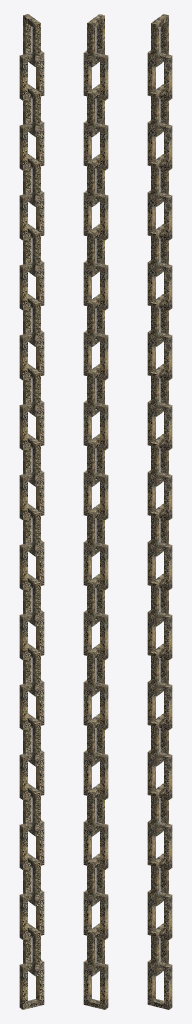
File: Bigchain.glb
3 views of the same model, side by side, from view 1: azimuth 30°, elevation 25°; view 2: azimuth 150°, elevation 25°; view 3: azimuth 330°, elevation 25° (orthographic).
Visible parts, largest first — view 1: Cube_001; view 2: Cube_001; view 3: Cube_001.
Boxes of the visible parts, box(x1,y1,x2,y2) form: Cube_001: box(19, 14, 44, 1009); Cube_001: box(83, 14, 108, 1009); Cube_001: box(147, 14, 172, 1009).
Size of the model in its own units: 0.5776 by 25.26 by 0.5776.
1 material, 1 textured.
